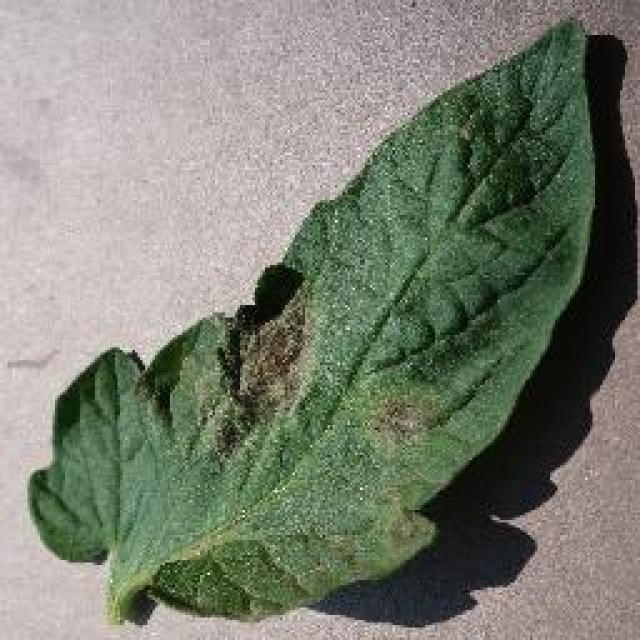Tomato___Late_blight: (28, 20, 595, 628)
